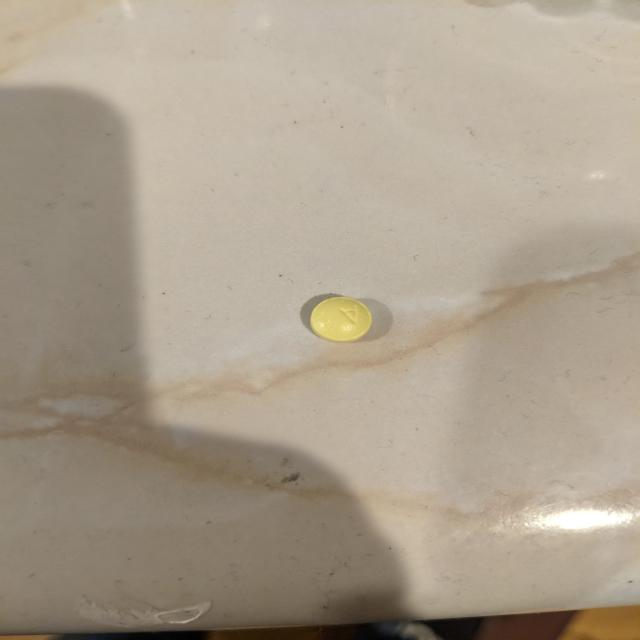non-organic waste: (309, 296, 373, 343)
